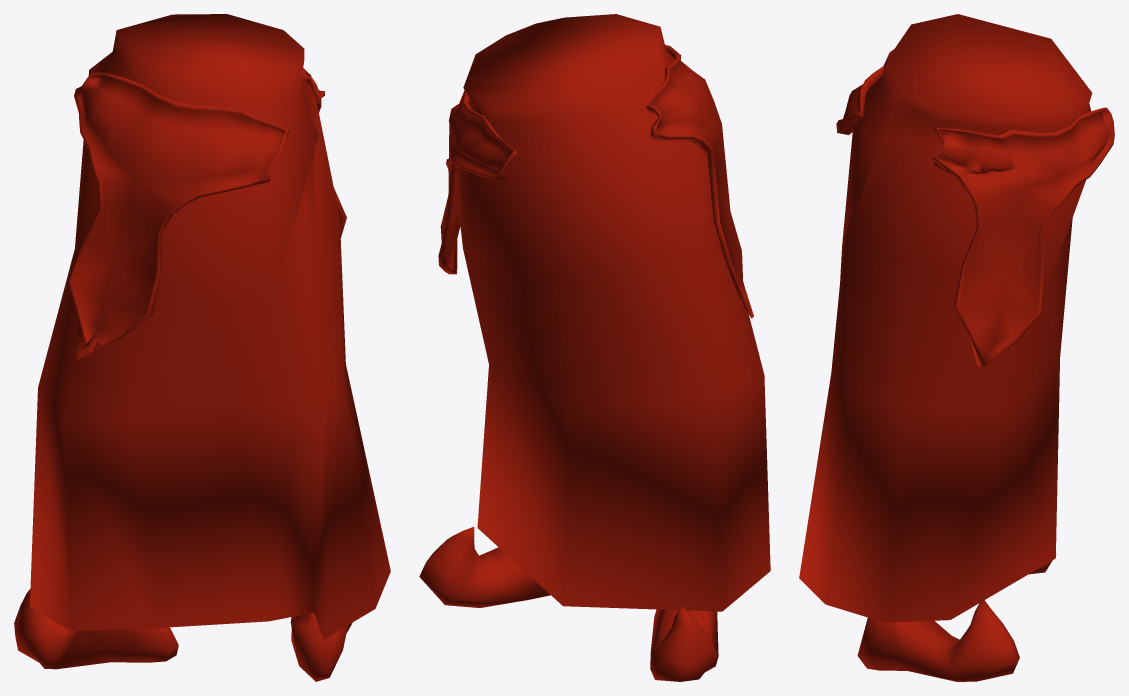
File: bot_000046.obj
3 renders of one model, left to right at view 1: azimuth 30°, elevation 25°; view 2: azimuth 150°, elevation 25°; view 3: azimuth 270°, elevation 25°, orthographic. The views are drawn at different scales.
Visible parts, largest first — view 1: LowPoly_Warlock.004_Plane.004; view 2: LowPoly_Warlock.004_Plane.004; view 3: LowPoly_Warlock.004_Plane.004.
Part boxes in pixels (x1,y1,x2,y2): LowPoly_Warlock.004_Plane.004: (14,14,390,681); LowPoly_Warlock.004_Plane.004: (419,14,770,681); LowPoly_Warlock.004_Plane.004: (799,14,1114,681).
Bounding box in the file's own units: 0.6061 × 1.14 × 0.5492.
